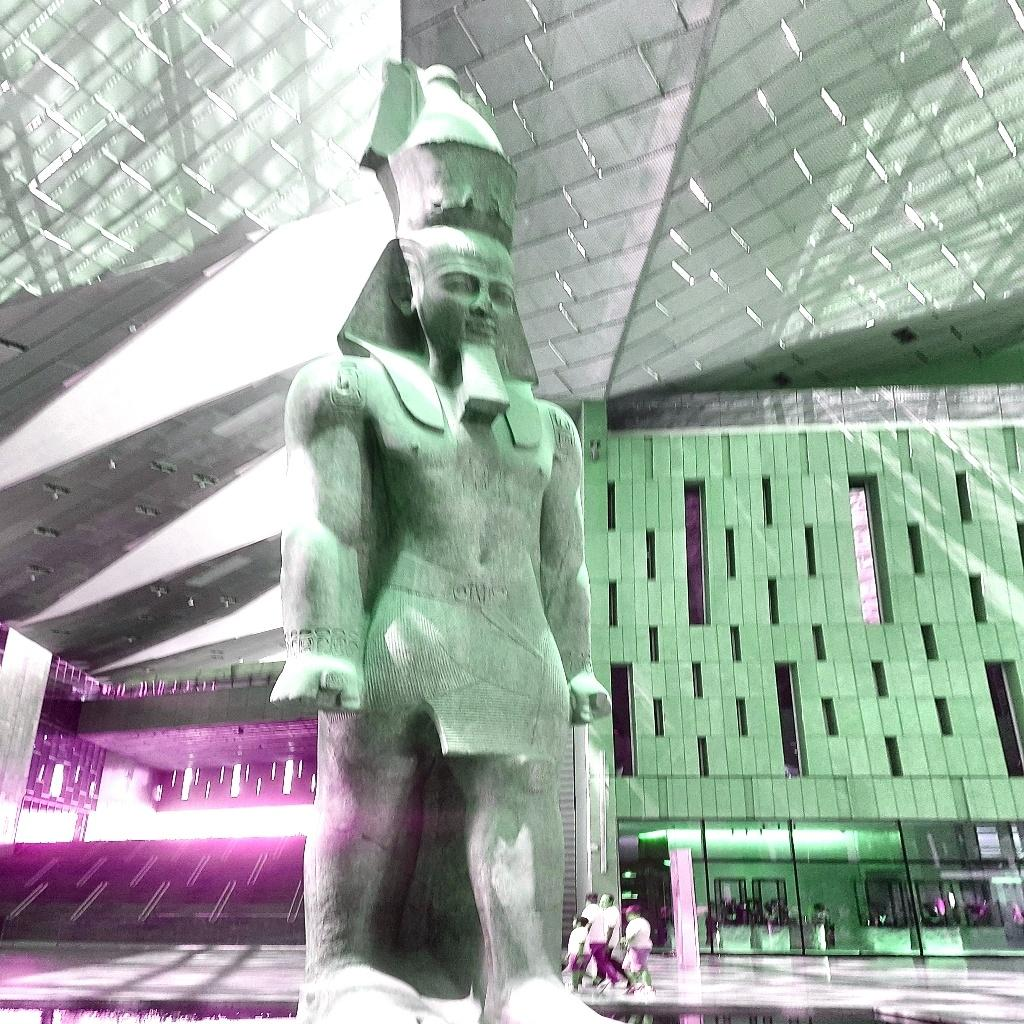Statue of King Ramses II Grand Egyptian Museum: (266, 56, 626, 1021)
